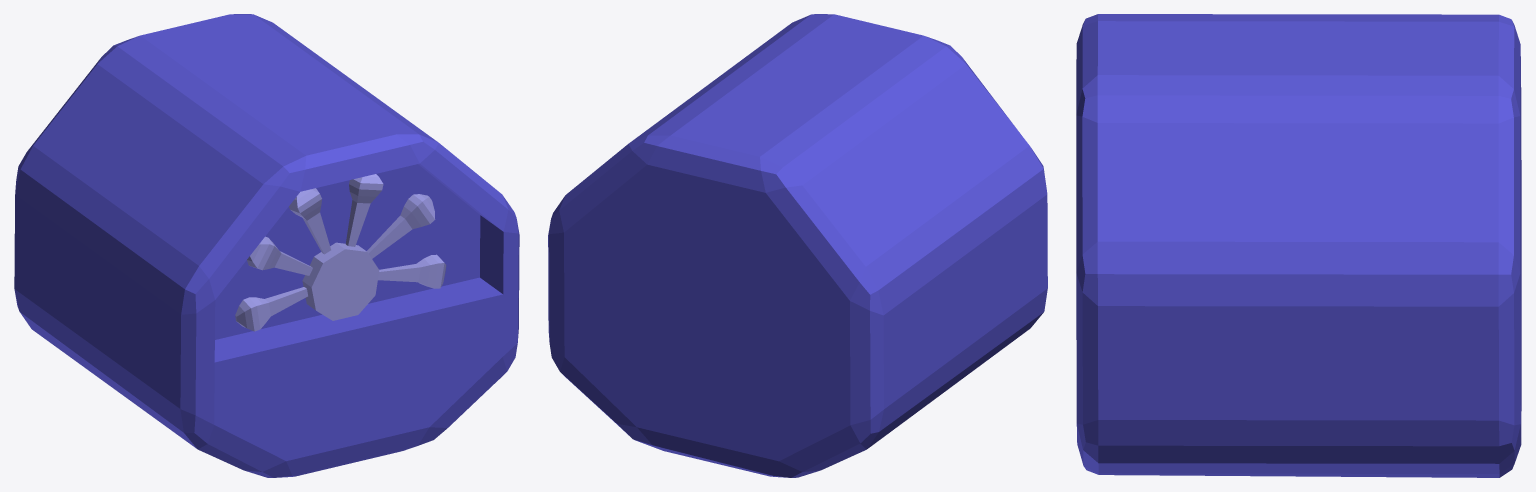
Rendered from BubbleBox.fbx.
3 renders of one model, left to right at view 1: azimuth 30°, elevation 25°; view 2: azimuth 150°, elevation 25°; view 3: azimuth 270°, elevation 25°, orthographic. The views are drawn at different scales.
Visible parts, largest first — view 1: Cube.010; view 2: Cube.010; view 3: Cube.010.
Part boxes in pixels (<box>): Cube.010: <box>14,14,519,477</box>; Cube.010: <box>548,14,1047,477</box>; Cube.010: <box>1076,14,1521,477</box>.
Bounding box in the file's own units: 97.34 × 87.77 × 91.41.
